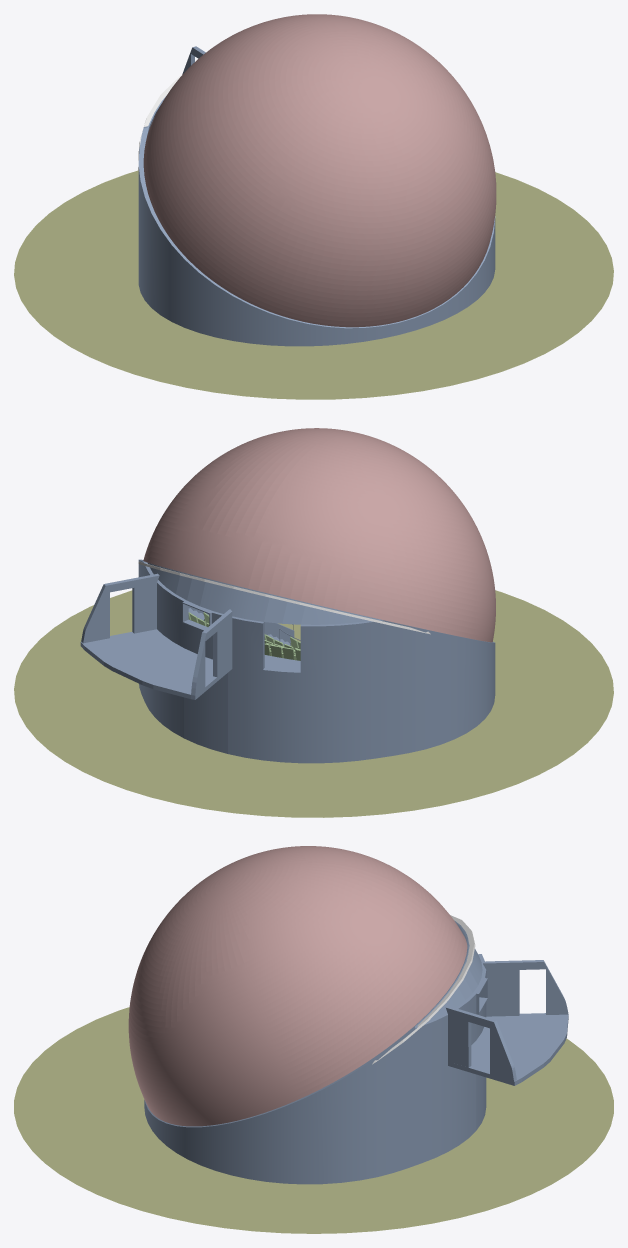
Rendered from wisdome-rim.glb.
The picture shows the model from 3 angles, top to bottom: view 1: azimuth 30°, elevation 25°; view 2: azimuth 150°, elevation 25°; view 3: azimuth 270°, elevation 25°; orthographic projection.
Visible parts, largest first — view 1: Screen, Floor, Main_Structure; view 2: Floor, Main_Structure, Screen, LED_Rim, Chairs; view 3: Screen, Floor, Main_Structure, LED_Rim.
Boxes of the visible parts, <box> form: Screen: <box>143,14,496,327</box>; Floor: <box>14,170,613,399</box>; Main_Structure: <box>138,46,495,346</box>; Floor: <box>14,590,613,817</box>; Main_Structure: <box>80,559,495,763</box>; Screen: <box>143,428,495,642</box>; LED_Rim: <box>138,561,430,634</box>; Chairs: <box>188,612,300,660</box>; Screen: <box>128,846,467,1126</box>; Floor: <box>14,1007,613,1233</box>; Main_Structure: <box>144,920,568,1184</box>; LED_Rim: <box>372,915,475,1064</box>.
Bounding box in the file's own units: 25.06 × 11.25 × 25.03.
